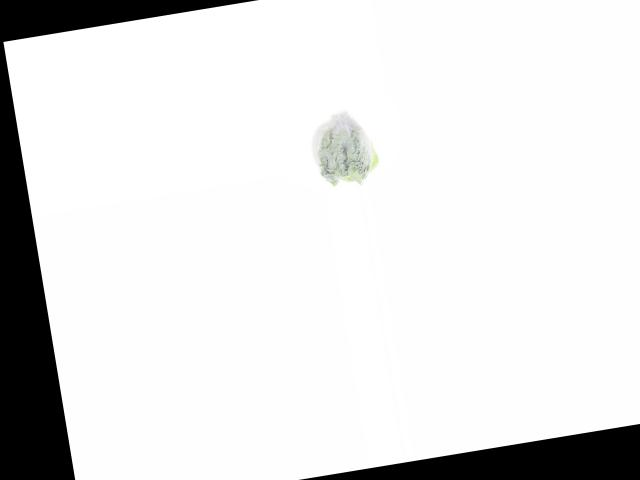lettuce: (304, 106, 385, 190)
